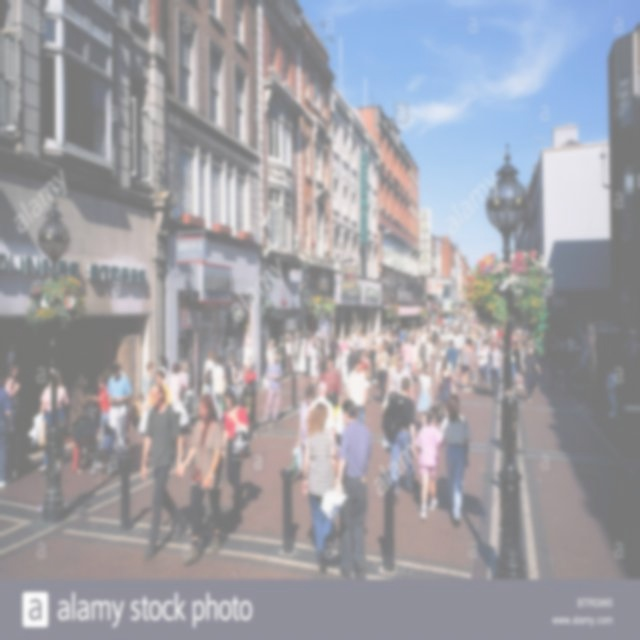pessoa: (176, 392, 227, 568), (141, 383, 187, 562), (333, 398, 373, 584), (302, 404, 340, 574), (381, 376, 417, 506), (440, 393, 473, 528), (220, 387, 252, 515), (588, 321, 625, 421), (416, 404, 446, 520), (37, 370, 70, 473), (68, 373, 94, 473), (106, 362, 134, 454), (260, 349, 284, 428), (297, 384, 316, 482), (308, 380, 337, 442), (110, 361, 132, 440), (346, 358, 368, 427), (0, 373, 13, 488), (374, 340, 393, 408), (210, 354, 228, 421), (416, 362, 434, 427), (322, 355, 342, 411), (521, 346, 541, 402), (438, 356, 456, 418), (390, 356, 414, 401), (441, 314, 498, 332), (540, 330, 568, 365), (212, 326, 240, 360), (624, 330, 640, 388), (224, 353, 242, 403), (4, 360, 21, 412), (150, 368, 172, 408), (487, 341, 502, 396), (434, 351, 454, 388), (359, 348, 372, 404), (459, 339, 472, 392), (98, 374, 111, 426), (240, 336, 253, 388), (202, 348, 216, 396), (168, 362, 182, 409), (577, 333, 591, 377), (100, 425, 114, 468), (476, 340, 488, 390), (386, 352, 400, 394), (143, 361, 157, 402), (340, 347, 354, 388), (284, 336, 297, 380), (309, 342, 321, 389), (177, 360, 192, 396), (512, 339, 522, 389), (296, 336, 308, 377), (156, 356, 172, 386), (446, 338, 458, 378), (346, 346, 360, 380), (304, 335, 315, 377), (368, 340, 379, 382), (327, 334, 339, 370), (424, 336, 434, 374), (402, 338, 414, 369), (291, 331, 300, 372), (380, 324, 396, 346), (464, 331, 498, 341), (413, 323, 441, 334), (511, 332, 517, 382), (266, 338, 278, 361), (186, 338, 198, 361), (316, 335, 324, 369), (419, 329, 427, 363), (470, 340, 479, 369), (474, 334, 487, 354), (134, 393, 144, 418), (434, 337, 444, 362), (566, 332, 578, 352), (409, 338, 418, 364), (394, 335, 404, 358), (458, 330, 466, 358), (530, 339, 540, 361), (335, 333, 342, 364), (374, 332, 384, 353), (522, 333, 530, 359), (518, 326, 534, 339), (354, 333, 362, 358), (339, 336, 349, 355), (453, 331, 461, 354), (496, 326, 504, 348), (385, 341, 395, 358), (364, 329, 370, 356), (440, 330, 448, 348), (360, 332, 368, 347), (412, 334, 420, 349), (369, 328, 376, 344), (398, 328, 404, 346), (350, 330, 358, 343), (569, 324, 579, 334), (403, 328, 411, 340), (284, 330, 292, 340), (446, 329, 452, 342), (348, 337, 354, 347), (311, 334, 315, 346), (410, 327, 414, 338), (346, 333, 349, 345), (446, 340, 450, 348), (353, 327, 357, 334)
